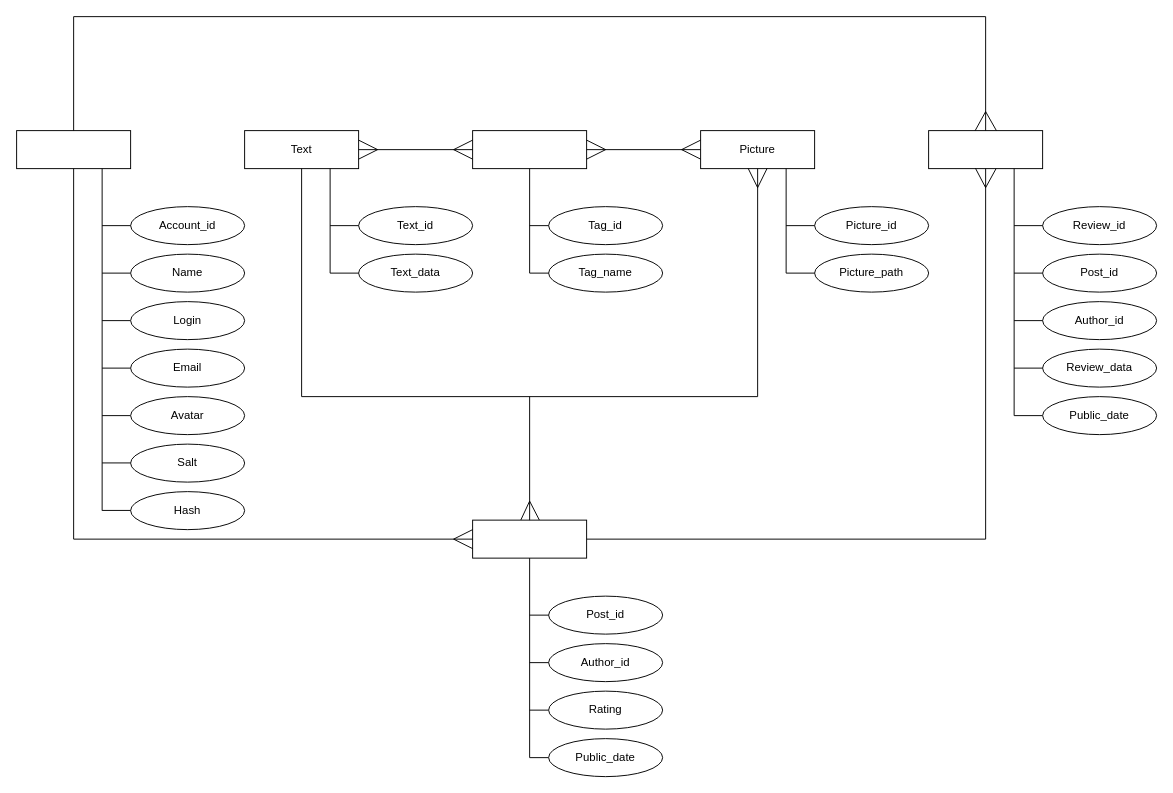
Some shapes in this 1173 by 793 pixel diagram are drawn without their labels. The centre of each missing label's shape, as x and y in pixels:
Account: [73,149]
Post: [529,538]
Review: [985,149]
Tag: [529,149]
